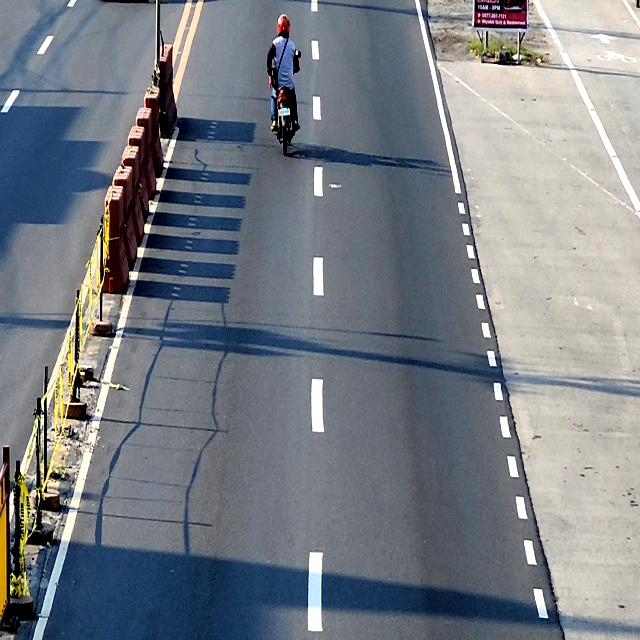License-Plate: (278, 108, 290, 116)
Motorcycle: (270, 47, 300, 155)
